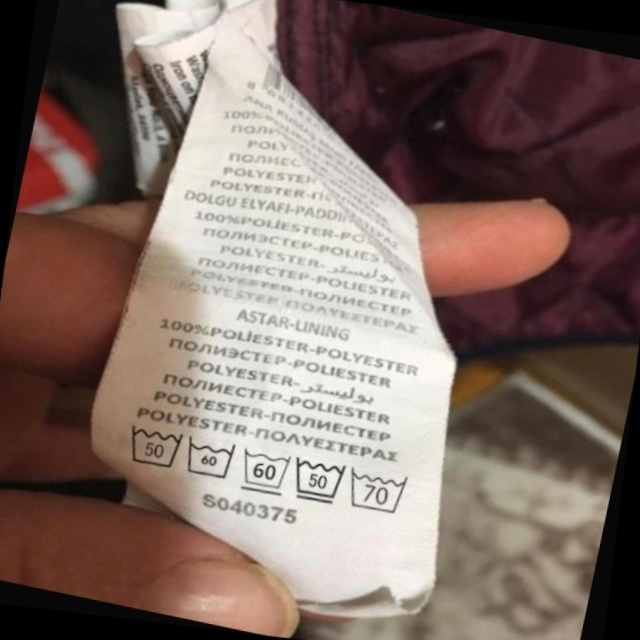50C: (116, 411, 193, 480), (284, 448, 355, 514)
60C: (233, 439, 300, 503), (177, 428, 245, 490)
70C: (341, 459, 419, 523)
